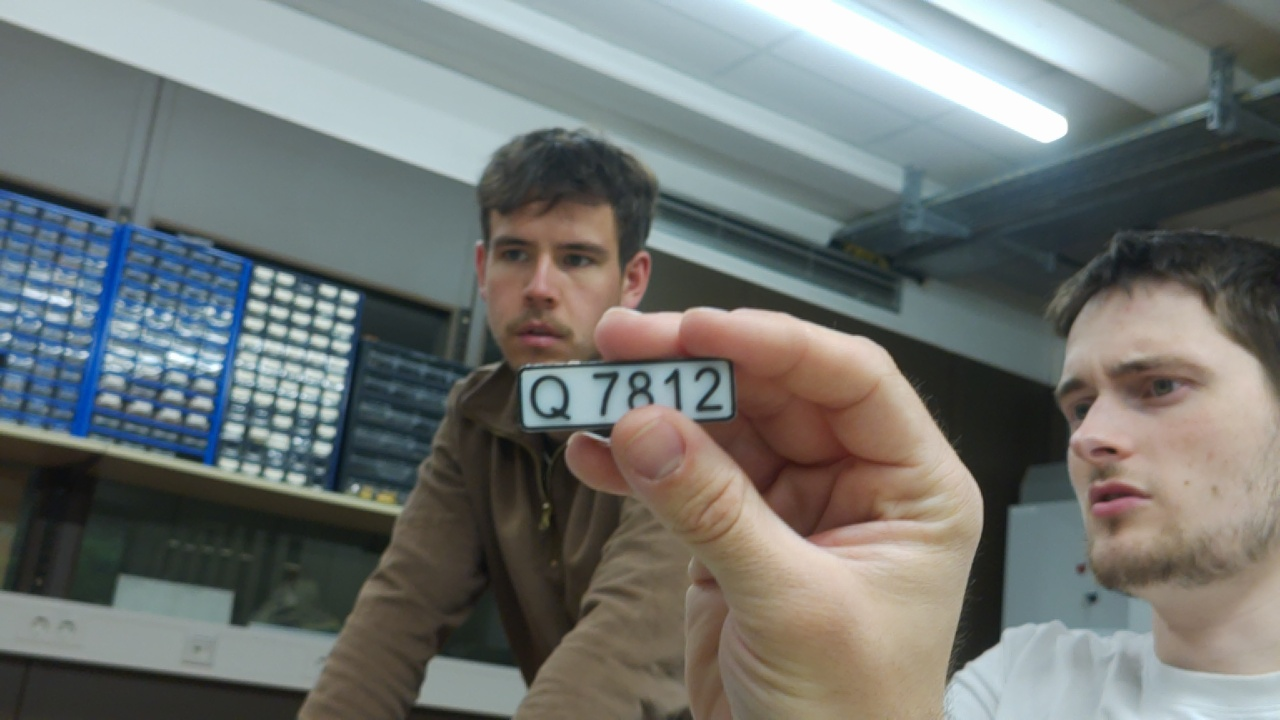license_plate: (506, 357, 744, 432)
